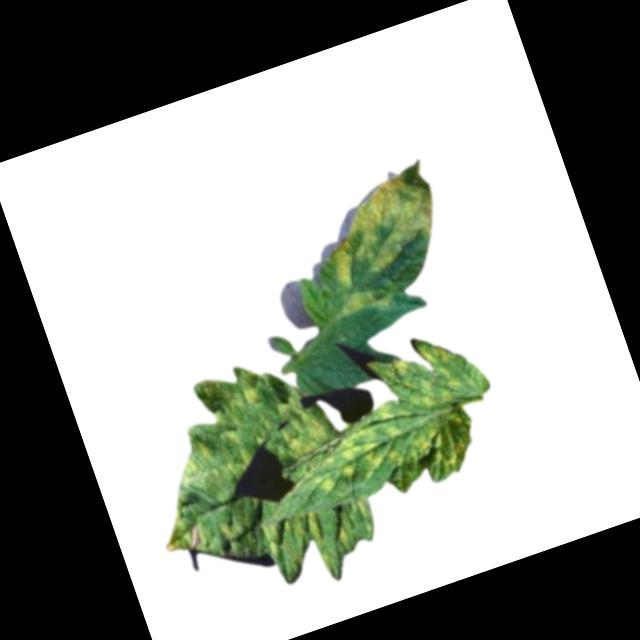Leaf_Mold: (118, 342, 388, 628), (279, 318, 514, 520), (297, 156, 464, 323)
